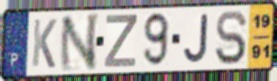9: (141, 11, 172, 69)
J: (182, 13, 210, 65)
K: (30, 17, 59, 70)
N: (58, 12, 101, 74)
S: (214, 8, 249, 66)
Z: (103, 14, 139, 69)
